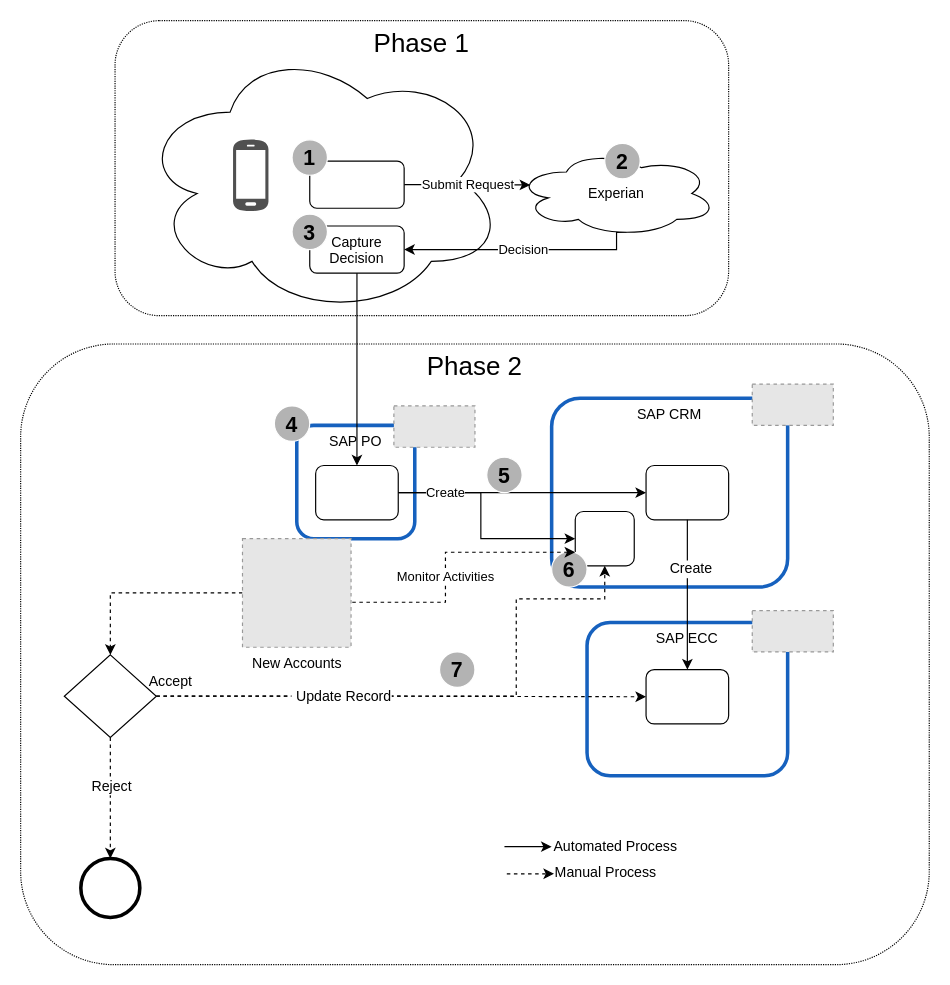
Image size: 950x985. Some labels were removed from this diagram. Grey dashed boxes stand in for pictures. Here are the shapes that lost their labels. From the top down, the centre of each, then its label:
point (356, 184): Capture Info
point (356, 492): *New Interface
point (687, 492): Customer (Base Info)
point (604, 538): Activity
point (109, 696): Review Application
point (687, 696): Customer (Finance)
point (110, 887): END
